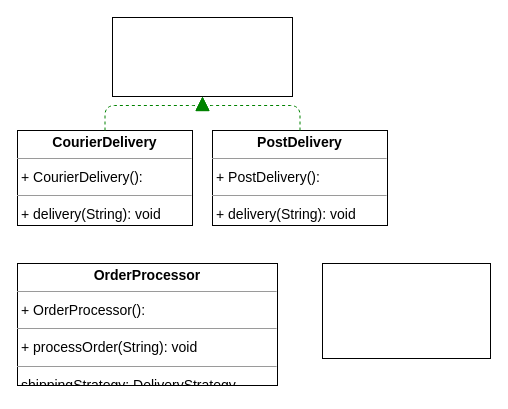
Some shapes in this 508 by 409 pixel diagram are drawn without their labels. Each missing label, with the box of its shape:
<<interface>> DeliveryStrategy + delivery(String): void: (112, 16, 292, 96)
Main + Main(): + main(String[]): void: (322, 262, 490, 358)
